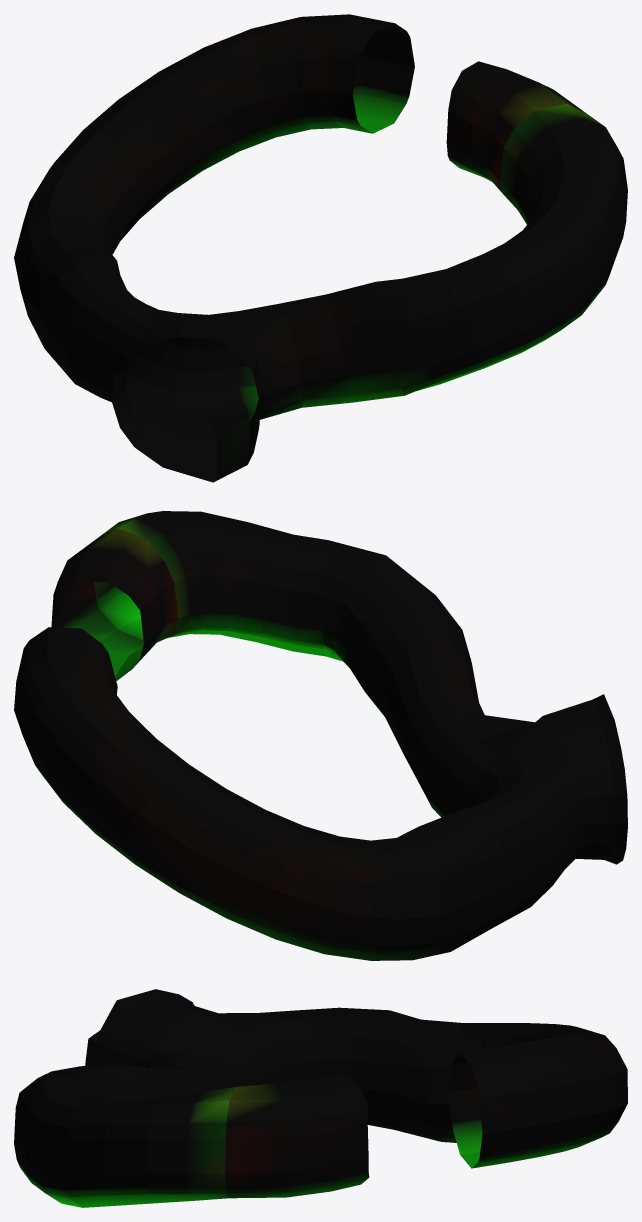
File: MiningTunnel_2.obj
3 renders of one model, top to bottom at view 1: azimuth 30°, elevation 25°; view 2: azimuth 150°, elevation 25°; view 3: azimuth 270°, elevation 25°, orthographic. The views are drawn at different scales.
Visible parts, largest first — view 1: MiningTunnel_2; view 2: MiningTunnel_2; view 3: MiningTunnel_2.
Boxes of the visible parts, <box> form: MiningTunnel_2: <box>14,14,627,482</box>; MiningTunnel_2: <box>14,511,627,960</box>; MiningTunnel_2: <box>14,989,627,1207</box>.
Size of the model in its own units: 20.26 by 9.79 by 21.35.
